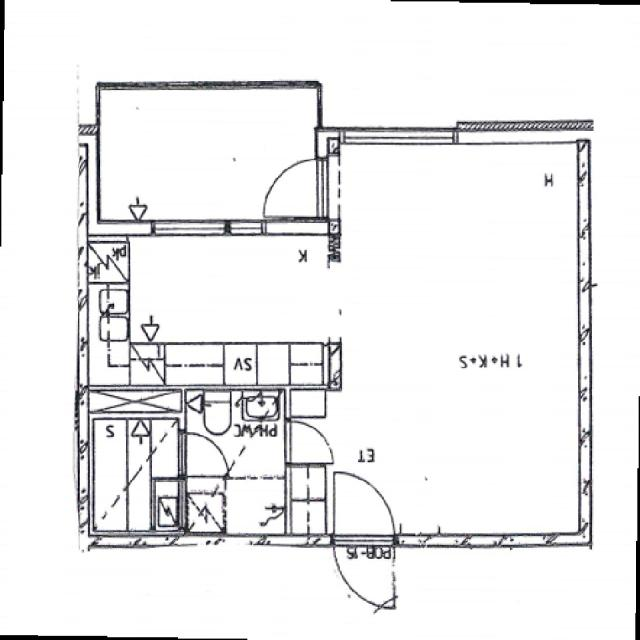door: (334, 473, 394, 549), (334, 535, 394, 611), (262, 160, 340, 217), (178, 434, 229, 477), (285, 422, 332, 465)
